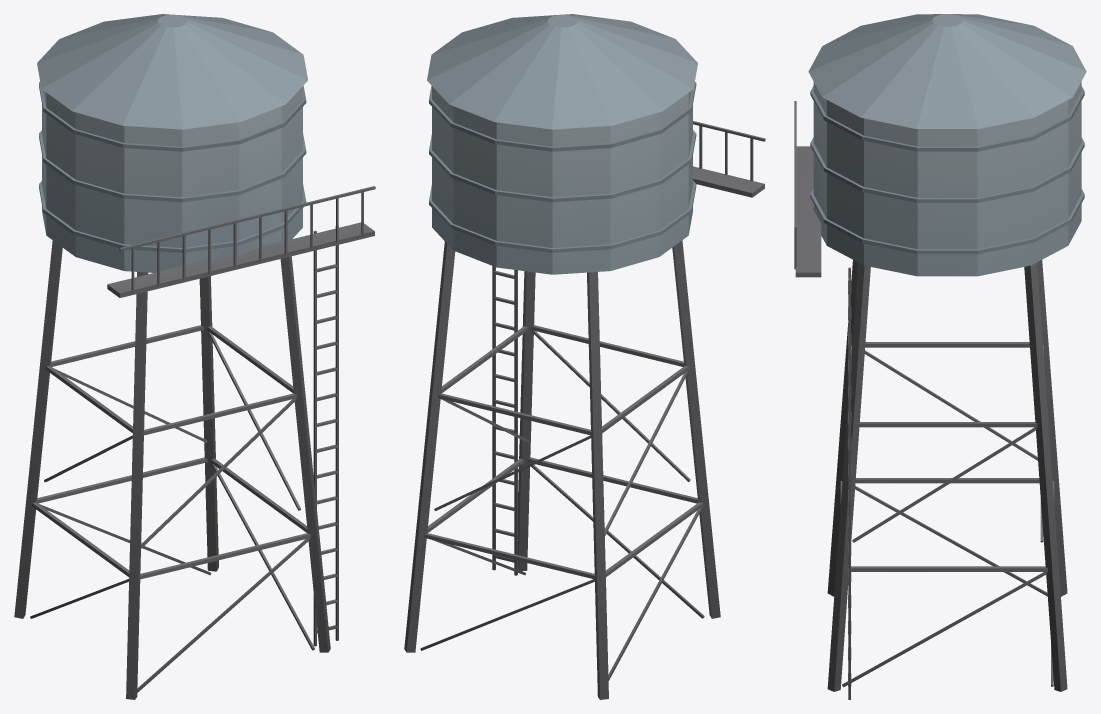
File: sv_watertower.glb
3 renders of one model, left to right at view 1: azimuth 30°, elevation 25°; view 2: azimuth 150°, elevation 25°; view 3: azimuth 270°, elevation 25°, orthographic.
Visible parts, largest first — view 1: sv_watertower; view 2: sv_watertower; view 3: sv_watertower.
Part boxes in pixels (x1,y1,x2,y2): sv_watertower: (14, 14, 375, 699); sv_watertower: (404, 14, 765, 699); sv_watertower: (794, 14, 1086, 699).
Bounding box in the file's own units: 5.8 × 13.32 × 5.68.
